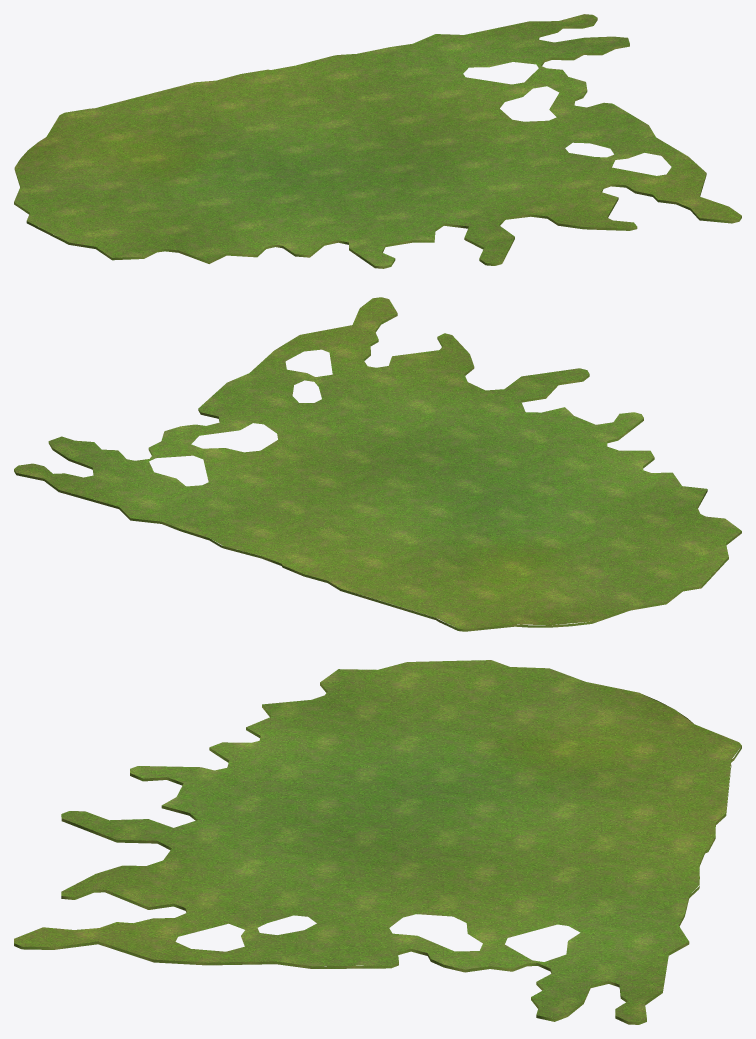
The model's file is lawn_02.glb.
3 renders of one model, top to bottom at view 1: azimuth 30°, elevation 25°; view 2: azimuth 150°, elevation 25°; view 3: azimuth 270°, elevation 25°, orthographic. The views are drawn at different scales.
Visible parts, largest first — view 1: lawn_02.surface, lawn_02.sides; view 2: lawn_02.surface, lawn_02.sides; view 3: lawn_02.surface, lawn_02.sides.
Boxes of the visible parts, box(x1,y1,x2,y2) form: lawn_02.surface: box(14, 14, 741, 266); lawn_02.sides: box(14, 18, 741, 268); lawn_02.surface: box(14, 297, 741, 629); lawn_02.sides: box(14, 313, 741, 631); lawn_02.surface: box(14, 660, 741, 1021); lawn_02.sides: box(14, 683, 741, 1024).
Size of the model in its own units: 16.7 by 0.6289 by 13.8.
Materials: 1 (1 with a texture image).
